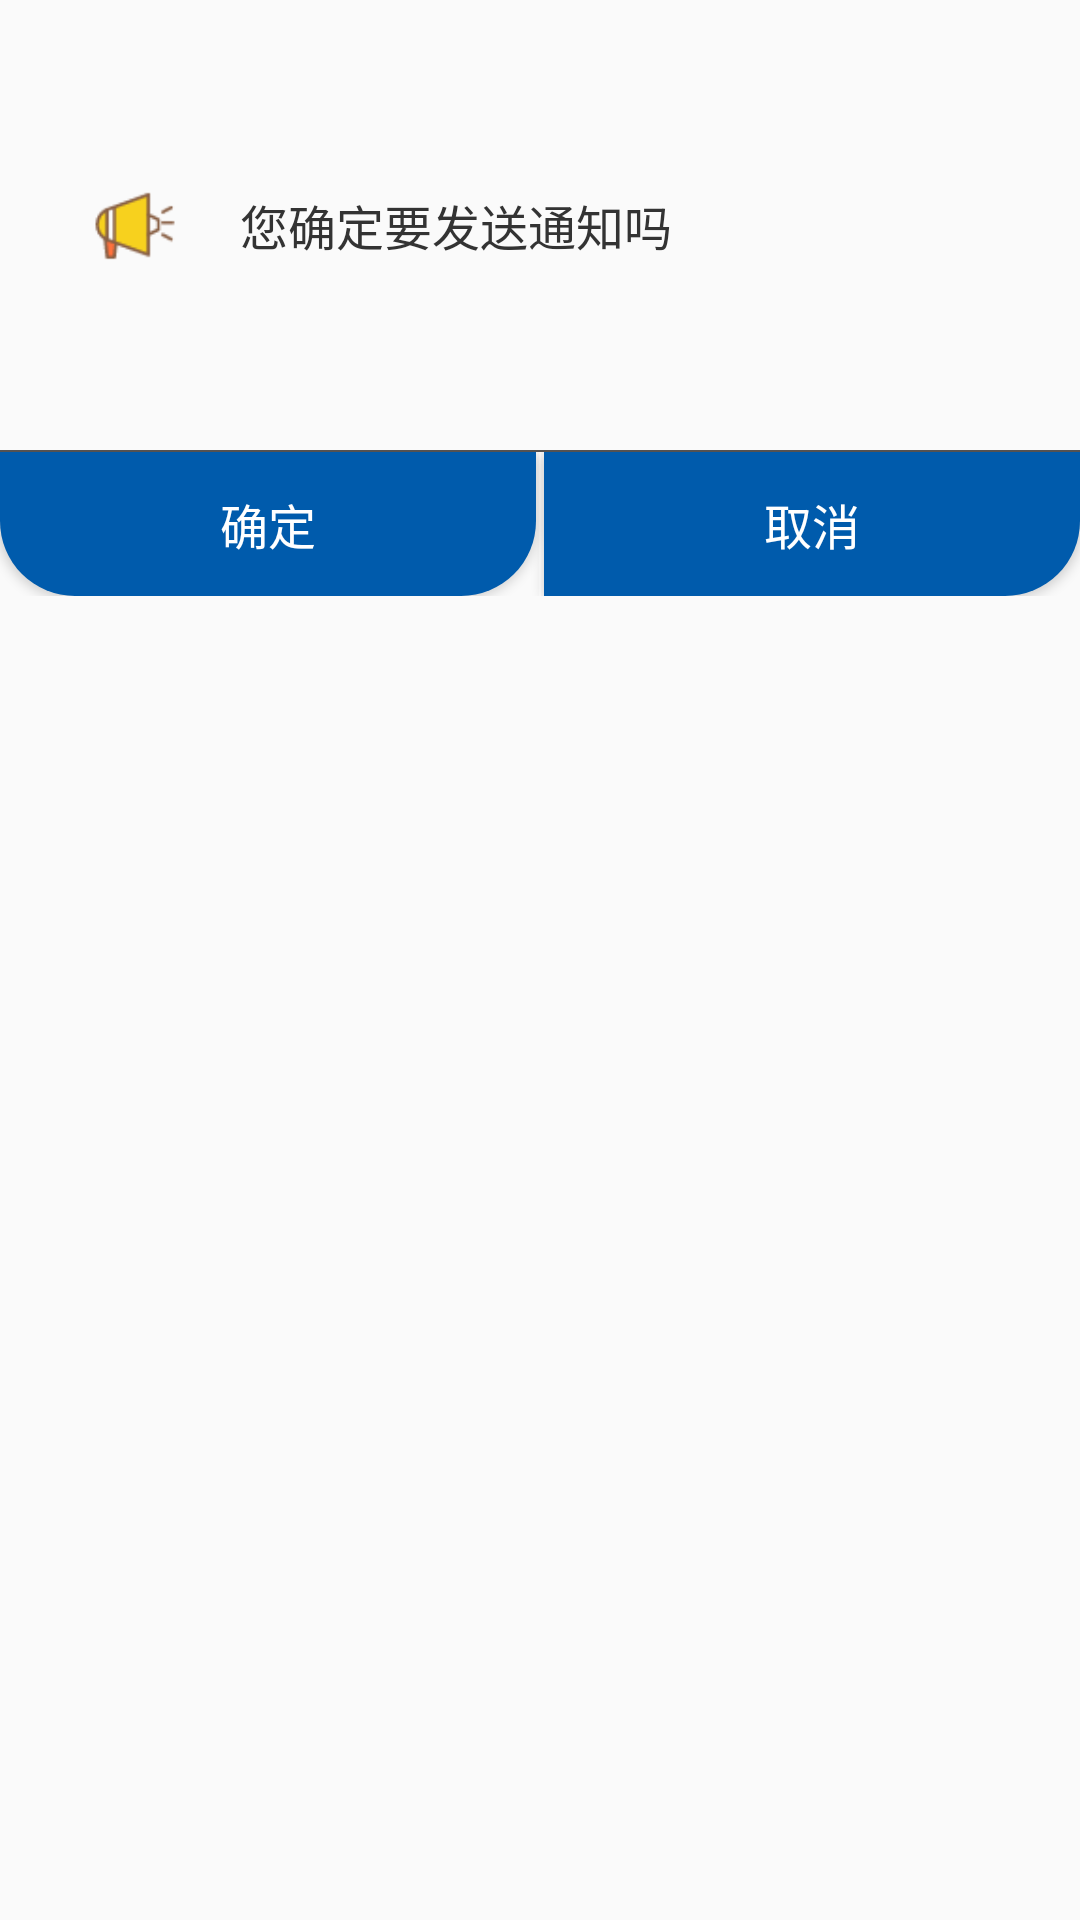

Point at icon controls on the screen. Image size 1080px x 1920px, points as (x,y).
notification: (135,225)
